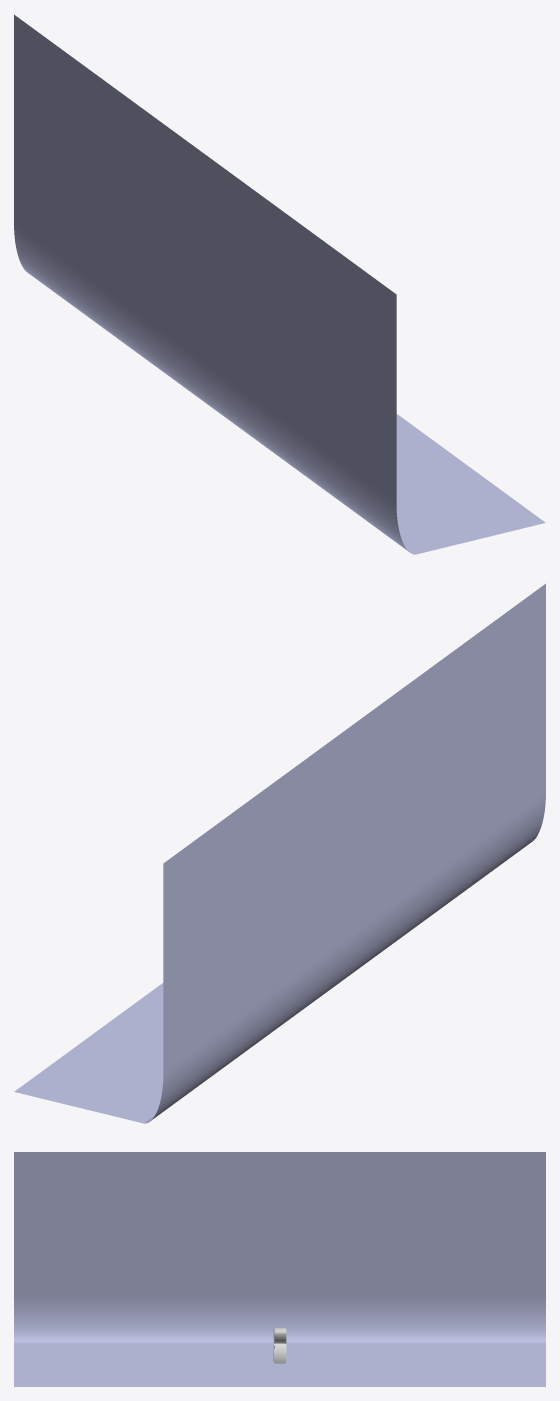
Rendered from fundal1.glb.
3 views of the same model, one above another, from view 1: azimuth 30°, elevation 25°; view 2: azimuth 150°, elevation 25°; view 3: azimuth 270°, elevation 25° (orthographic). The views are drawn at different scales.
Visible parts, largest first — view 1: Fundal; view 2: Fundal; view 3: Fundal, Cube.
Boxes of the visible parts, <box> form: Fundal: <box>14,14,545,554</box>; Fundal: <box>14,583,545,1123</box>; Fundal: <box>14,1152,545,1386</box>; Cube: <box>273,1328,286,1363</box>.
Bounding box in the file's own units: 13.24 × 22.43 × 58.69.
